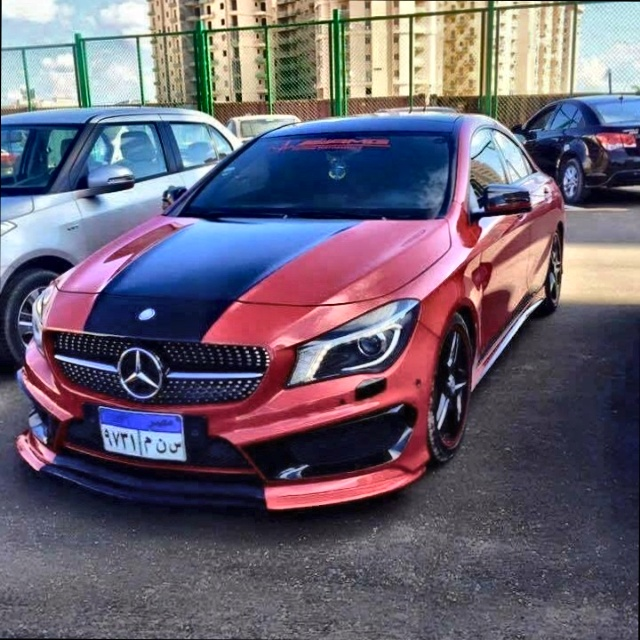License Plate: (94, 404, 189, 463)
